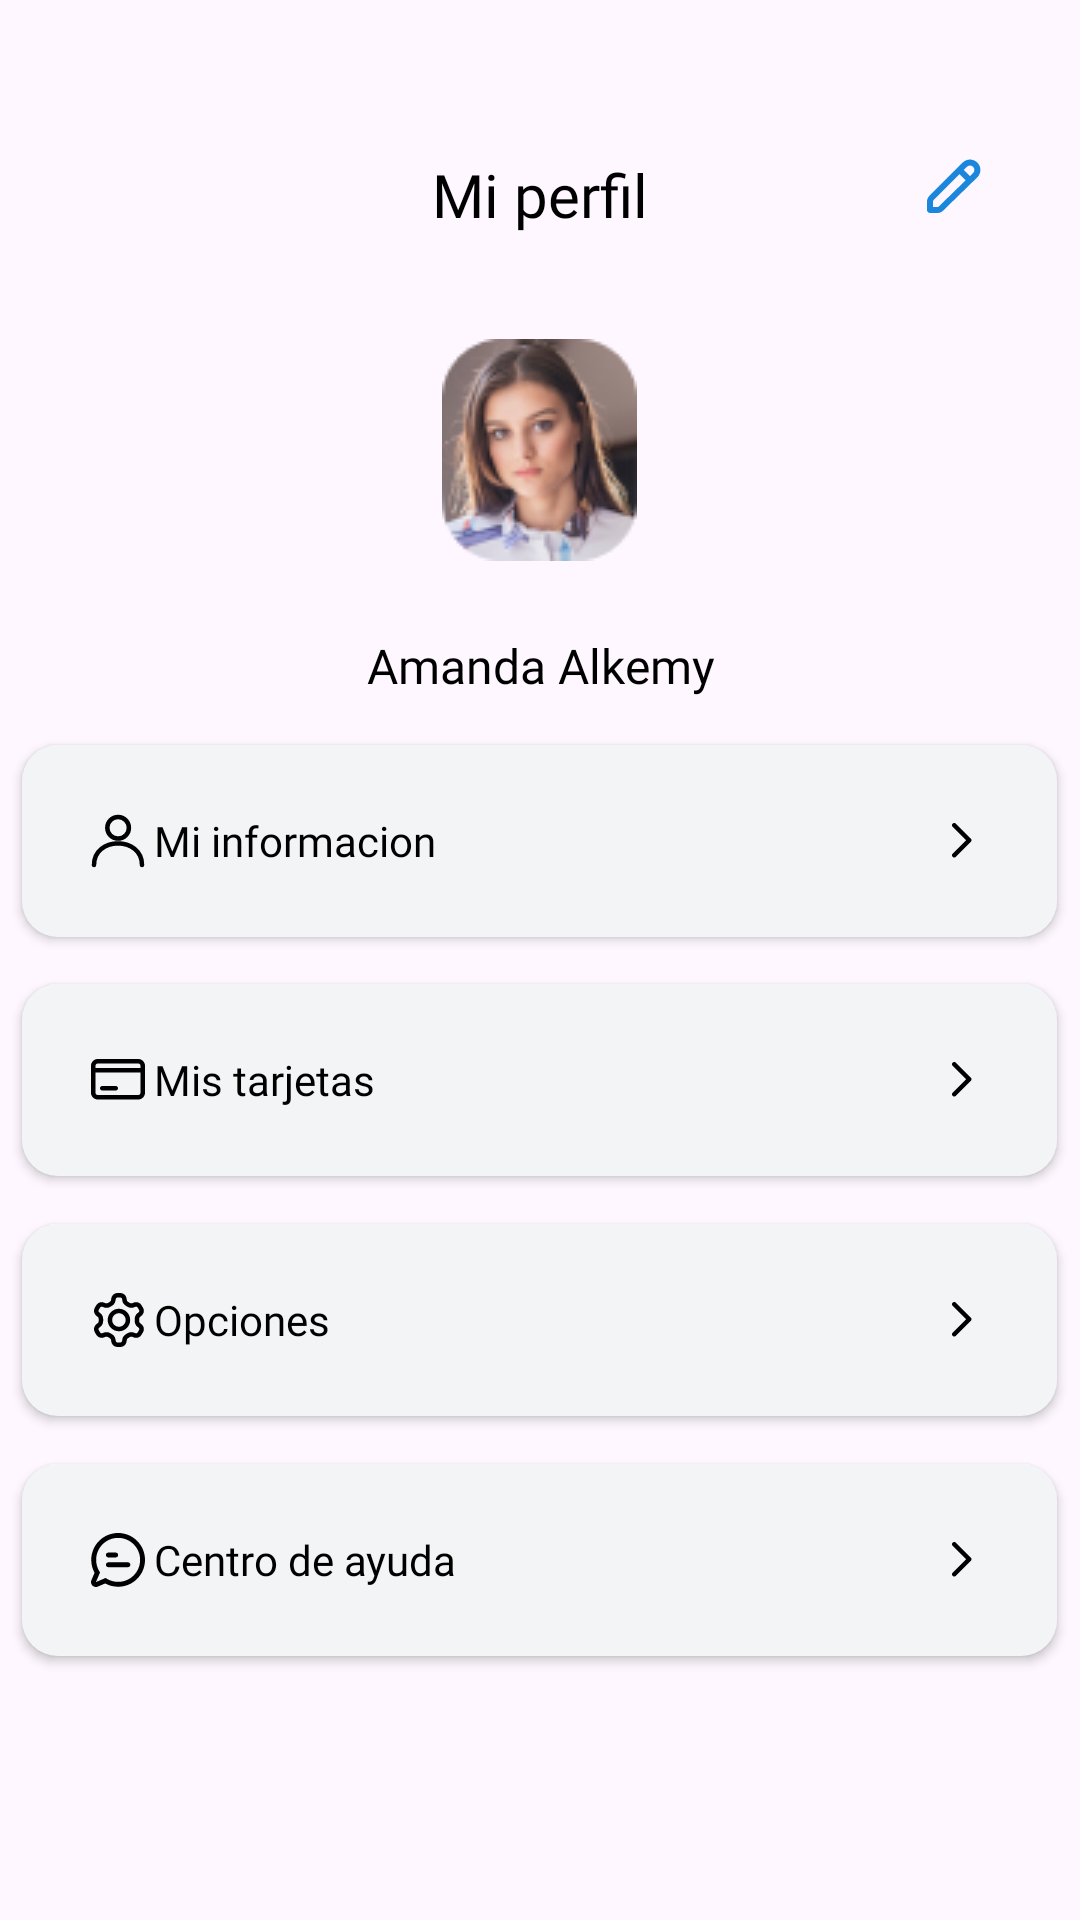

Icons on this 1080 x 1920 Android screen, each with the point to tap as [x,y]:
lapiz: [954,186]
profile picture: [539,450]
